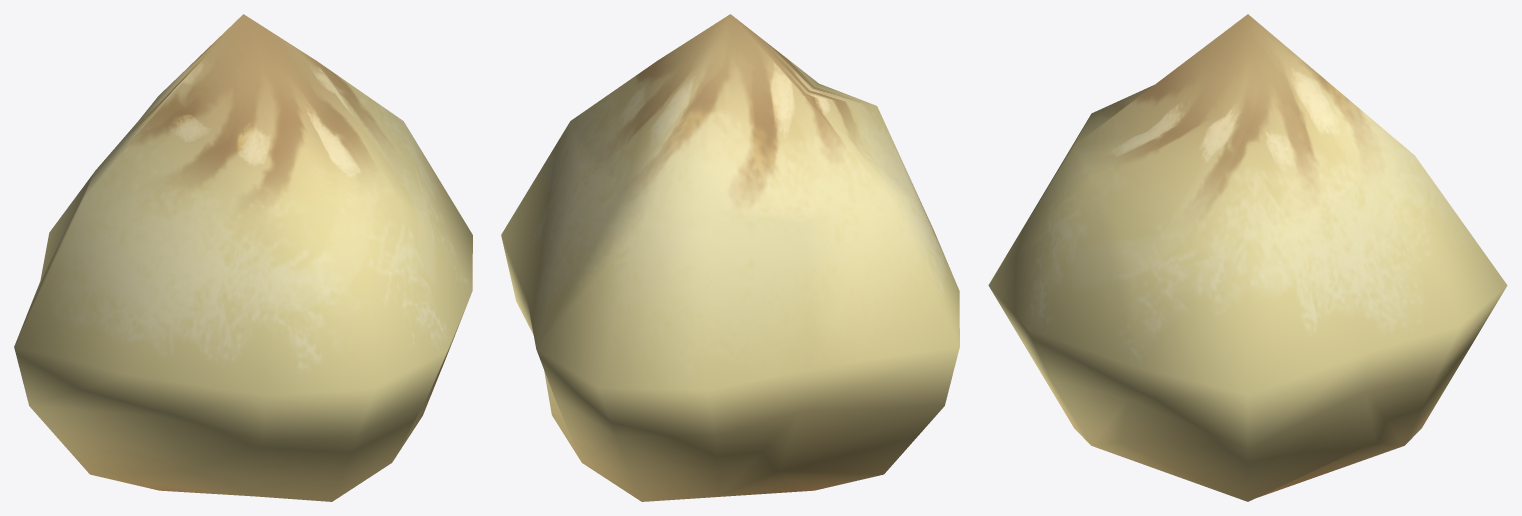
The model's file is dumpling.obj.
3 renders of one model, left to right at view 1: azimuth 30°, elevation 25°; view 2: azimuth 150°, elevation 25°; view 3: azimuth 270°, elevation 25°, orthographic. The views are drawn at different scales.
Visible parts, largest first — view 1: pCube3; view 2: pCube3; view 3: pCube3.
Boxes of the visible parts, x1=… form: pCube3: x1=14, y1=14, x2=472, y2=501; pCube3: x1=501, y1=14, x2=959, y2=501; pCube3: x1=988, y1=14, x2=1507, y2=501.
Size of the model in its own units: 3.68 by 3.66 by 3.68.
Materials: 1 (1 with a texture image).
